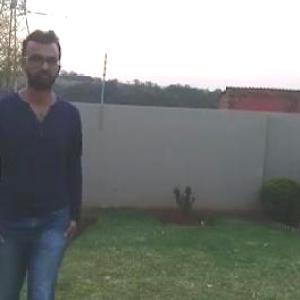follow: (0, 36, 81, 299)
